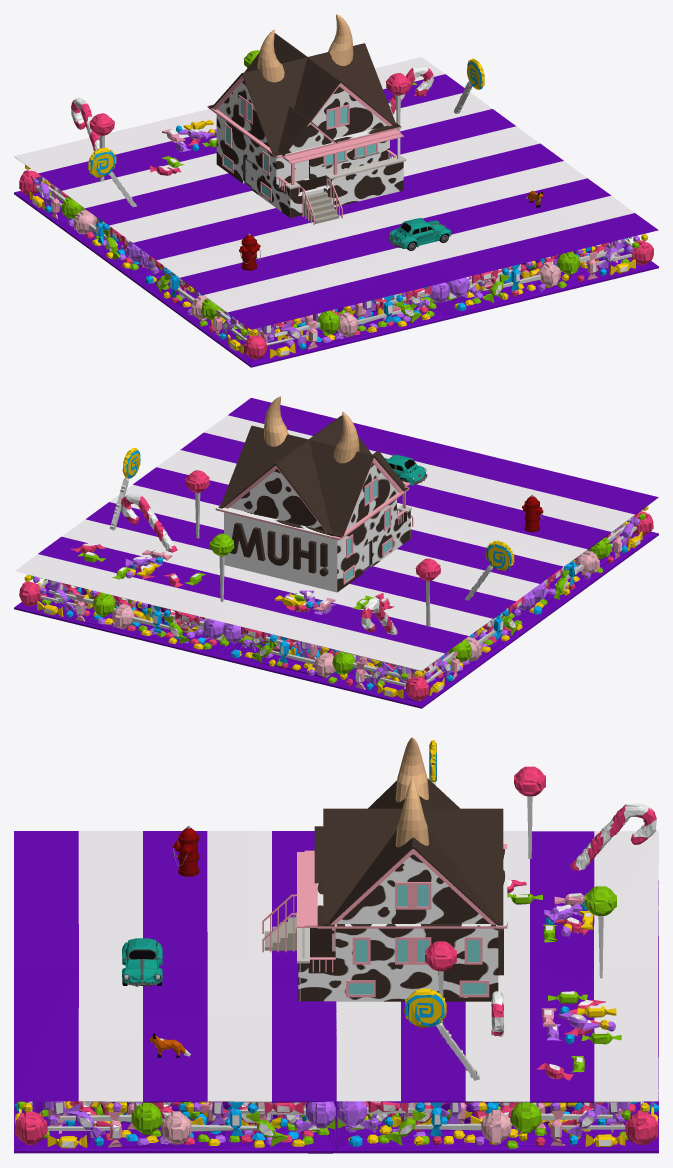
3 renders of one model, top to bottom at view 1: azimuth 30°, elevation 25°; view 2: azimuth 150°, elevation 25°; view 3: azimuth 270°, elevation 25°, orthographic. The views are drawn at different scales.
Visible parts, largest first — view 1: TERRAIN_CANDY, Cube.1242, VEHICLES_VOLKSWAGEN, OBJRANDOM_FIRE_HYDRANT; view 2: TERRAIN_CANDY, Cube.1242, VEHICLES_VOLKSWAGEN, OBJRANDOM_FIRE_HYDRANT; view 3: TERRAIN_CANDY, Cube.1242, VEHICLES_VOLKSWAGEN, OBJRANDOM_FIRE_HYDRANT.
Boxes of the visible parts, <box> form: TERRAIN_CANDY: <box>14,50,658,367</box>; Cube.1242: <box>207,14,406,225</box>; VEHICLES_VOLKSWAGEN: <box>388,218,451,250</box>; OBJRANDOM_FIRE_HYDRANT: <box>239,233,260,270</box>; TERRAIN_CANDY: <box>14,398,658,708</box>; Cube.1242: <box>215,396,413,592</box>; VEHICLES_VOLKSWAGEN: <box>384,454,427,485</box>; OBJRANDOM_FIRE_HYDRANT: <box>522,494,543,532</box>; TERRAIN_CANDY: <box>14,740,658,1153</box>; Cube.1242: <box>262,737,507,1001</box>; VEHICLES_VOLKSWAGEN: <box>122,938,162,986</box>; OBJRANDOM_FIRE_HYDRANT: <box>172,825,199,876</box>.
Size of the model in its own units: 4059 by 1852 by 4000.
Materials: 29 (2 with a texture image).
